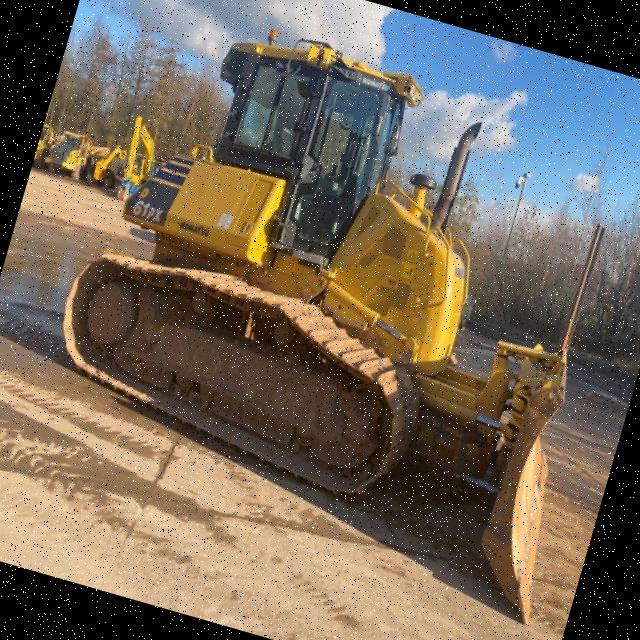Bulldozer: (10, 0, 640, 626)
